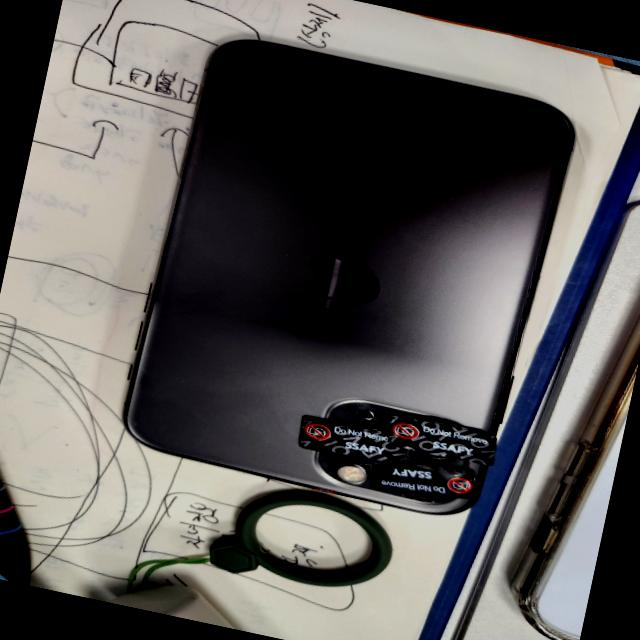phone: (110, 28, 579, 528)
removed_sticker: (296, 412, 407, 468), (384, 412, 498, 466)
sticker: (370, 448, 480, 511)
